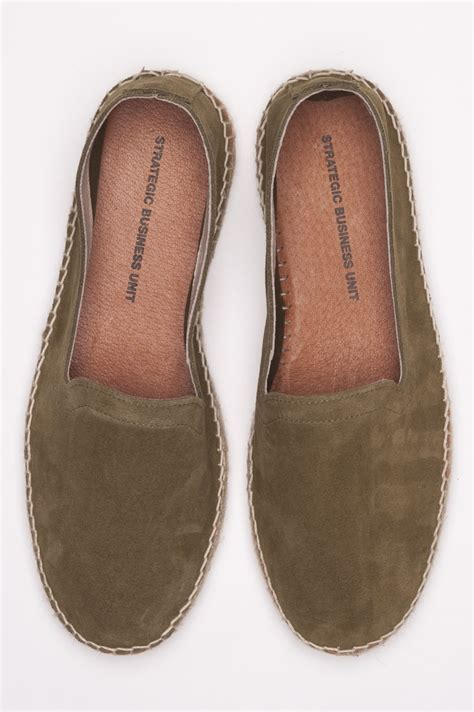gamuza: (23, 74, 450, 649)
